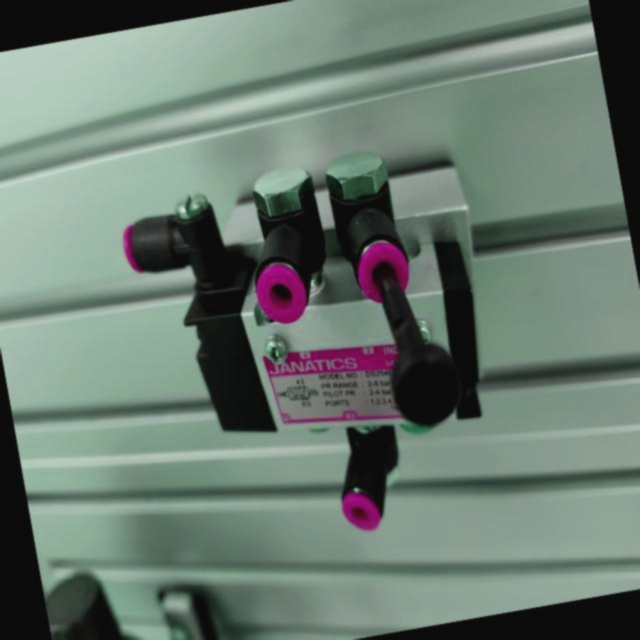5by2 DCV: (107, 122, 541, 572)
